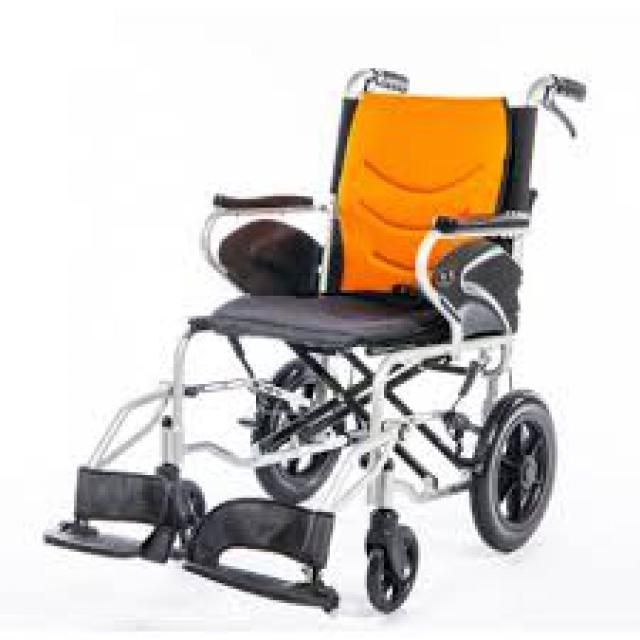wheelchair: (22, 57, 604, 620)
